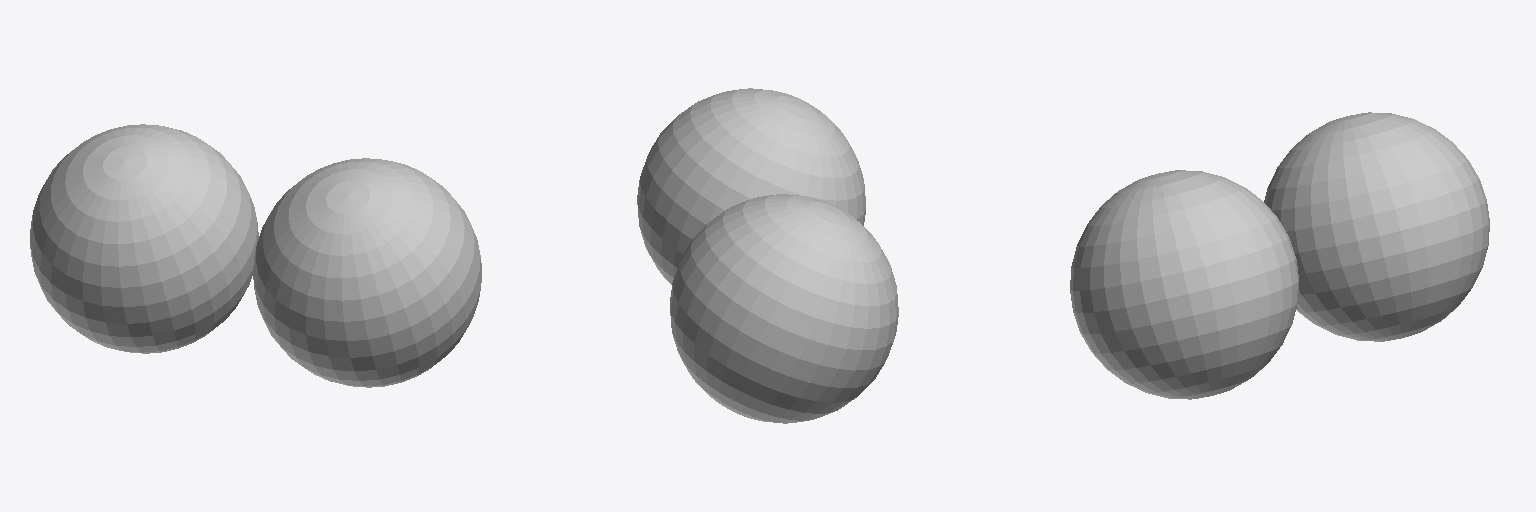
Rendered from Player04.obj.
The picture shows the model from 3 angles: view 1: azimuth 30°, elevation 25°; view 2: azimuth 150°, elevation 25°; view 3: azimuth 270°, elevation 25°; orthographic projection.
Visible parts, largest first — view 1: 球.002, 球.001; view 2: 球.001, 球.002; view 3: 球.002, 球.001.
Boxes of the visible parts, box(x1,y1,x2,y2) form: 球.002: box(253, 158, 481, 387); 球.001: box(30, 124, 258, 353); 球.001: box(670, 194, 898, 423); 球.002: box(637, 88, 865, 284); 球.002: box(1070, 170, 1298, 399); 球.001: box(1264, 112, 1489, 341).
Size of the model in its own units: 0.6555 by 0.4087 by 0.7315.